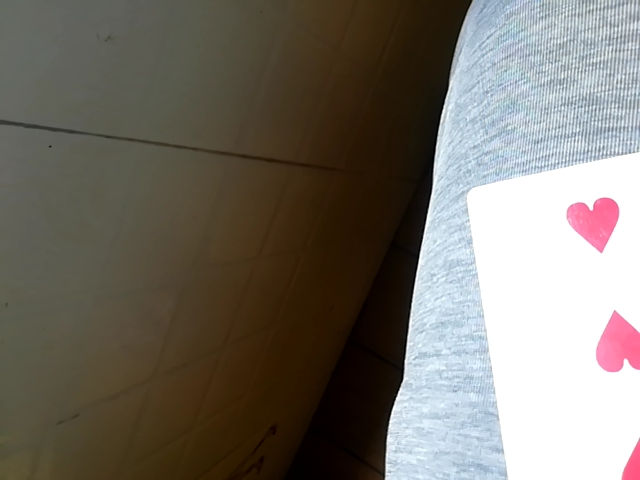hx 3: (466, 108, 639, 471)
